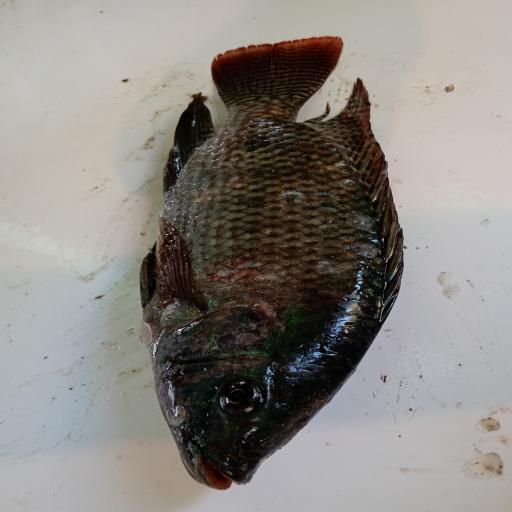Tilapia: (139, 36, 405, 490)
